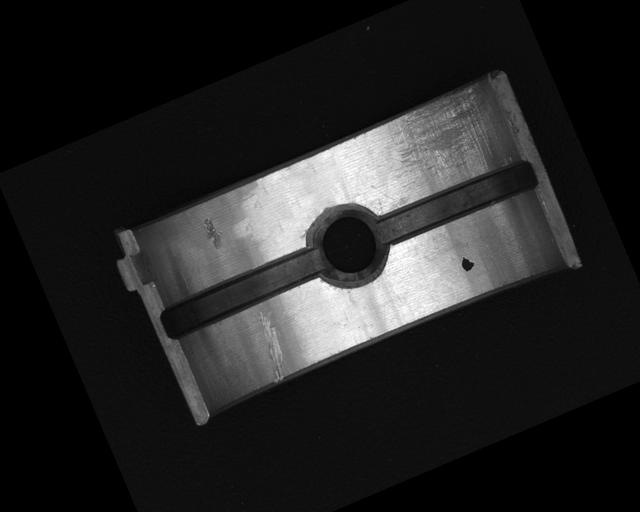blot: (458, 253, 477, 274)
bruise: (197, 214, 228, 253)
gap: (156, 240, 331, 344), (369, 153, 541, 252)
hole: (298, 193, 400, 298)
nick: (247, 309, 296, 383)
scratch: (376, 77, 517, 202)
